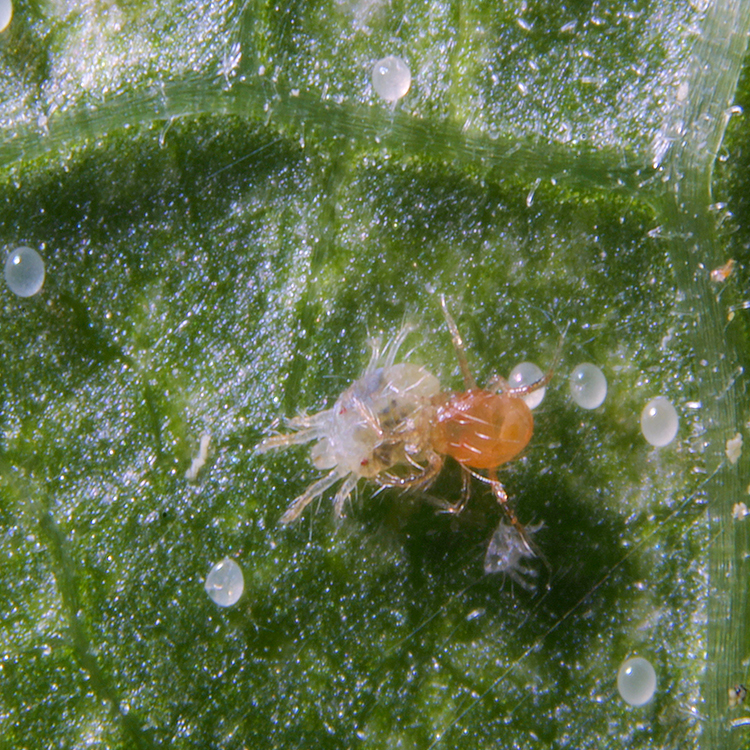Mites: (247, 326, 432, 525), (408, 390, 554, 512)
